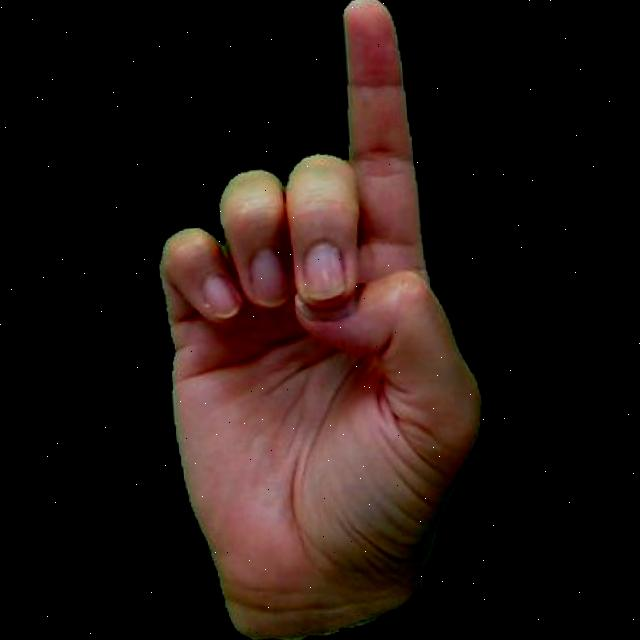d: (128, 0, 506, 640)
